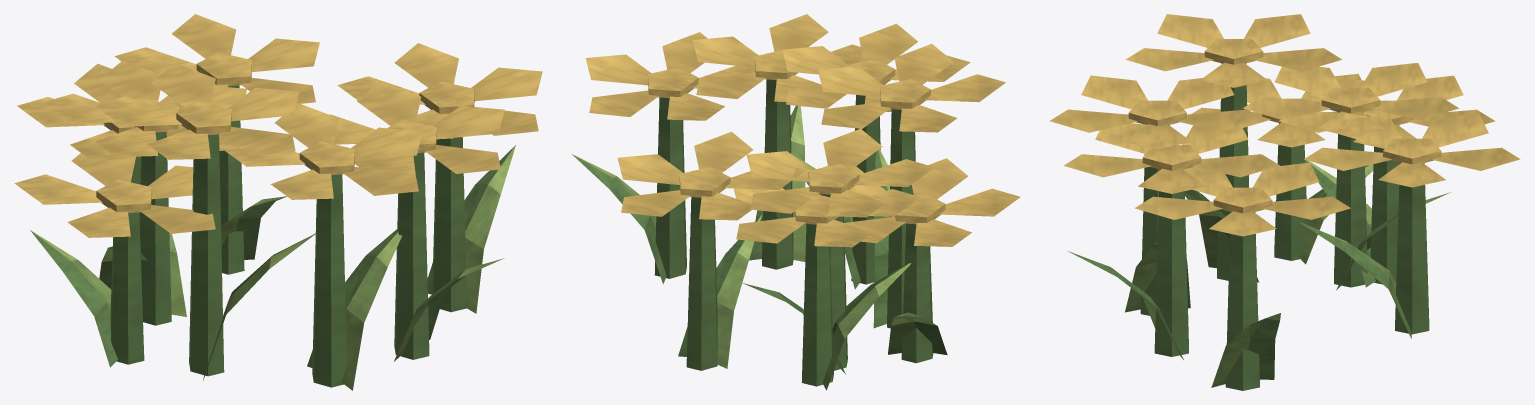
Rendered from flower_patch_03.fbx.
3 renders of one model, left to right at view 1: azimuth 30°, elevation 25°; view 2: azimuth 150°, elevation 25°; view 3: azimuth 270°, elevation 25°, orthographic. The views are drawn at different scales.
Parts seen in each view (by area): view 1: flower_patch_03; view 2: flower_patch_03; view 3: flower_patch_03.
Boxes of the visible parts, x1=… form: flower_patch_03: x1=14, y1=14, x2=542, y2=390; flower_patch_03: x1=572, y1=14, x2=1020, y2=390; flower_patch_03: x1=1049, y1=14, x2=1520, y2=390.
Bounding box in the file's own units: 102 × 53.33 × 100.
Materials: 1 (1 with a texture image).
